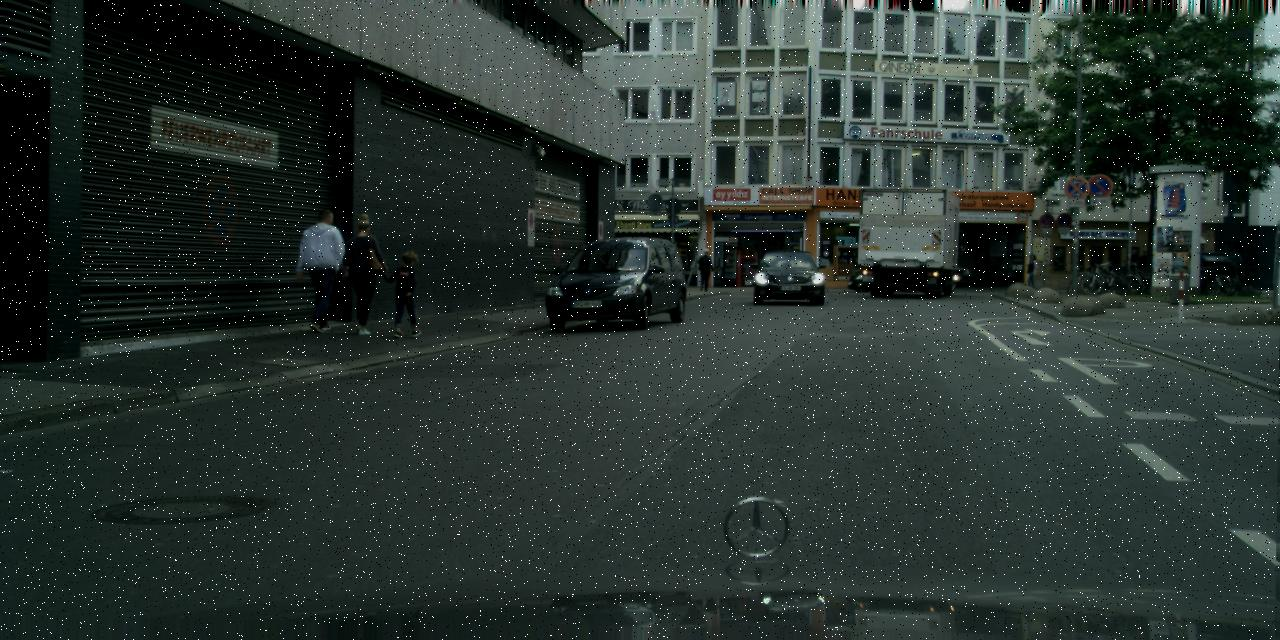ped: (299, 209, 349, 331), (337, 213, 387, 334), (389, 249, 425, 336), (696, 248, 713, 291), (1137, 249, 1152, 284), (1024, 253, 1038, 289)
